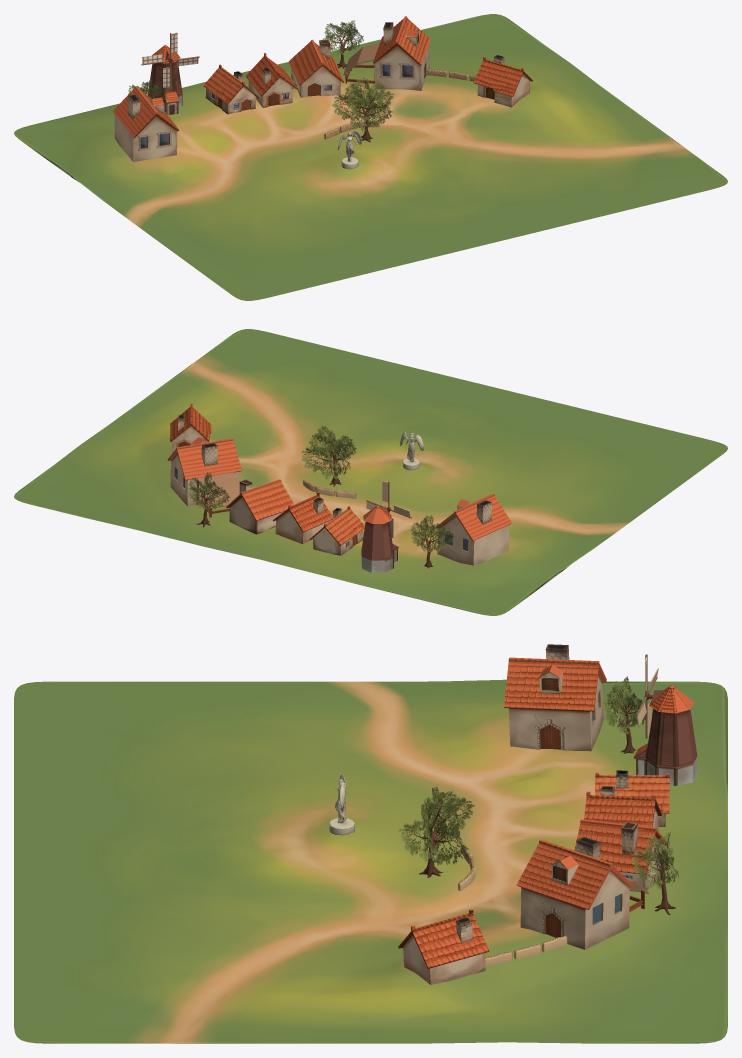
The model's file is medieval town.glb.
3 views of the same model, one above another, from view 1: azimuth 30°, elevation 25°; view 2: azimuth 150°, elevation 25°; view 3: azimuth 270°, elevation 25° (orthographic). The views are drawn at different scales.
Visible parts, largest first — view 1: ground, house01.002, house01, house02, tree.002, house03.001, house03, house04, windmill, tree.004, blade, stable (+1 smaller); view 2: ground, house01.002, house01, house02, windmill, tree.002, house03, house04, house03.001, stable, tree.005, tree.004 (+2 smaller); view 3: ground, house01, house01.002, house03.001, windmill, tree.002, house02, house03, house04, tree.004, tree.005, wall.002 (+2 smaller).
Part boxes in pixels (x1,y1,x2,y2): ground: (14,14,727,300); house01.002: (112,86,179,162); house01: (373,16,430,90); house02: (288,39,344,97); tree.002: (332,77,393,142); house03.001: (473,54,533,107); house03: (245,53,297,107); house04: (203,64,258,114); windmill: (148,44,182,114); tree.004: (322,20,363,69); blade: (141,32,199,88); stable: (343,43,379,83); ground: (14,329,727,615); house01.002: (436,494,511,565); house01: (167,437,241,506); house02: (226,479,294,534); windmill: (361,505,398,572); tree.002: (301,425,356,486); house03: (273,492,333,544); house04: (310,506,364,555); house03.001: (170,403,211,452); stable: (196,472,239,517); tree.005: (410,515,453,568); tree.004: (187,472,230,527); ground: (14,679,727,1043); house01: (516,836,634,949); house01.002: (504,644,606,751); house03.001: (398,909,489,984); windmill: (633,684,697,785); tree.002: (398,786,474,877); house02: (574,819,668,892); house03: (584,786,661,831); house04: (595,770,669,826); tree.004: (631,832,678,914); tree.005: (602,676,645,753); wall.002: (485,935,567,965).
Size of the model in its own units: 120 by 20.64 by 100.
Materials: 3 (3 with a texture image).
